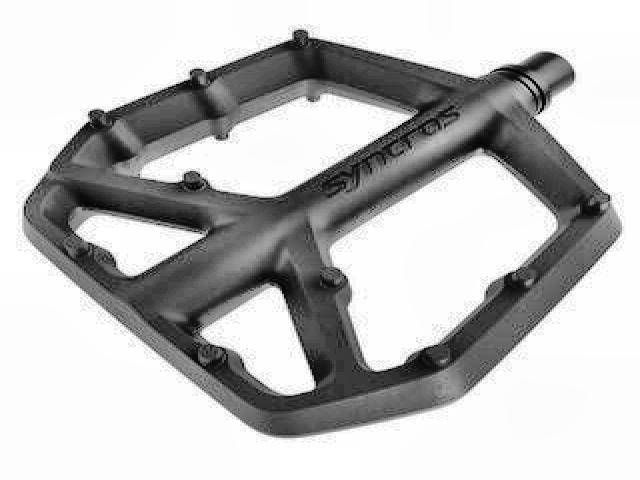pedal: (22, 24, 625, 442)
